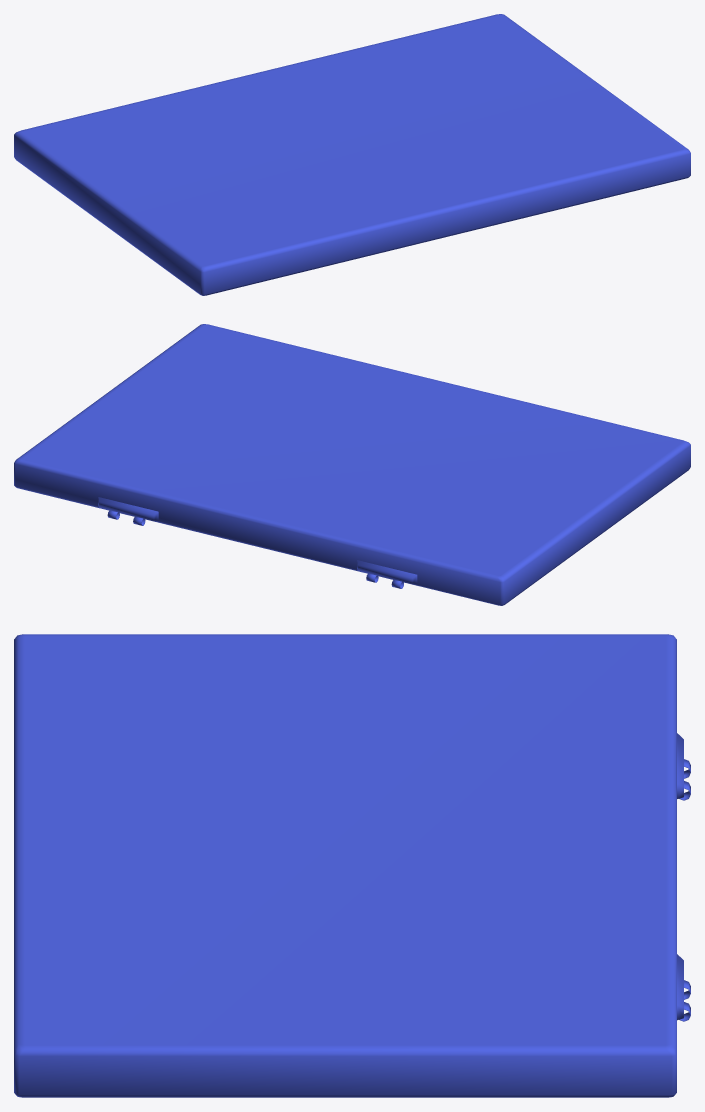
The model's file is IceBoxLid.fbx.
3 views of the same model, one above another, from view 1: azimuth 30°, elevation 25°; view 2: azimuth 150°, elevation 25°; view 3: azimuth 270°, elevation 25° (orthographic). The views are drawn at different scales.
Visible parts, largest first — view 1: IceBoxLid_Geo; view 2: IceBoxLid_Geo; view 3: IceBoxLid_Geo.
Part boxes in pixels (bbox=[...]): IceBoxLid_Geo: bbox=[14, 14, 690, 295]; IceBoxLid_Geo: bbox=[14, 324, 690, 605]; IceBoxLid_Geo: bbox=[14, 634, 690, 1097].
Size of the model in its own units: 702 by 43.7 by 480.
